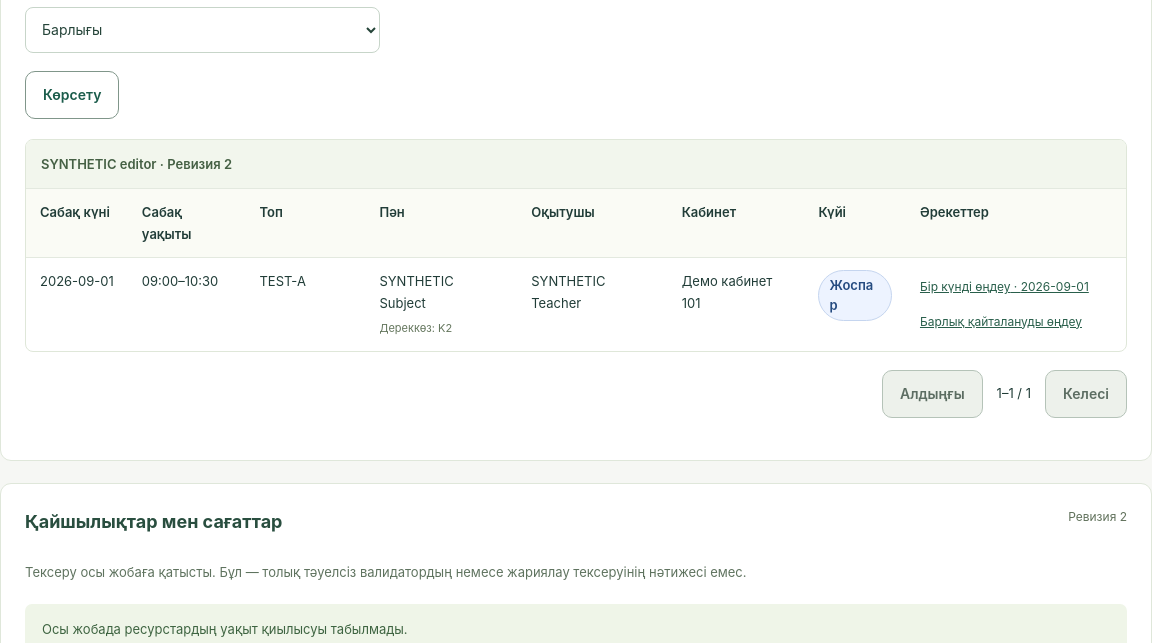
Test: manual schedule editor › single-date save sends only that occurrence through the one-date command
(page scrolled)
Click the button "Бір күнді өңдеу · 2026-09-01" at (1004, 287), box [920,270,1089,305]
(page scrolled)
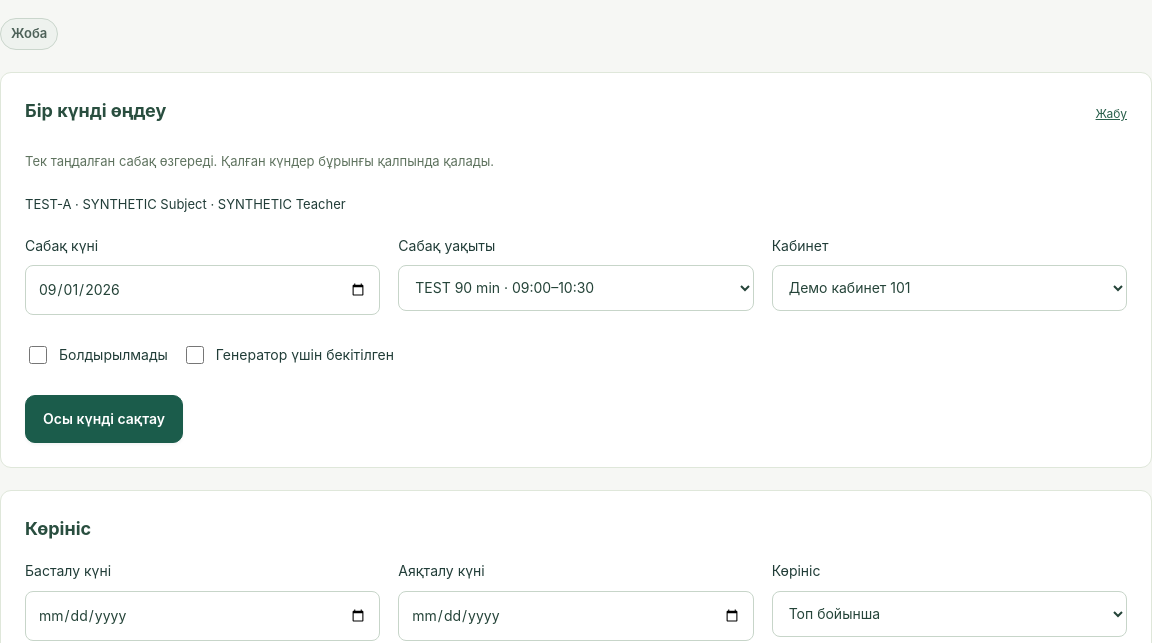
Select "2-сабақ (90 минут) · 10:30–12:00" in the dropdown labelled "Сабақ уақыты" at (576, 288), box [398,265,754,311]
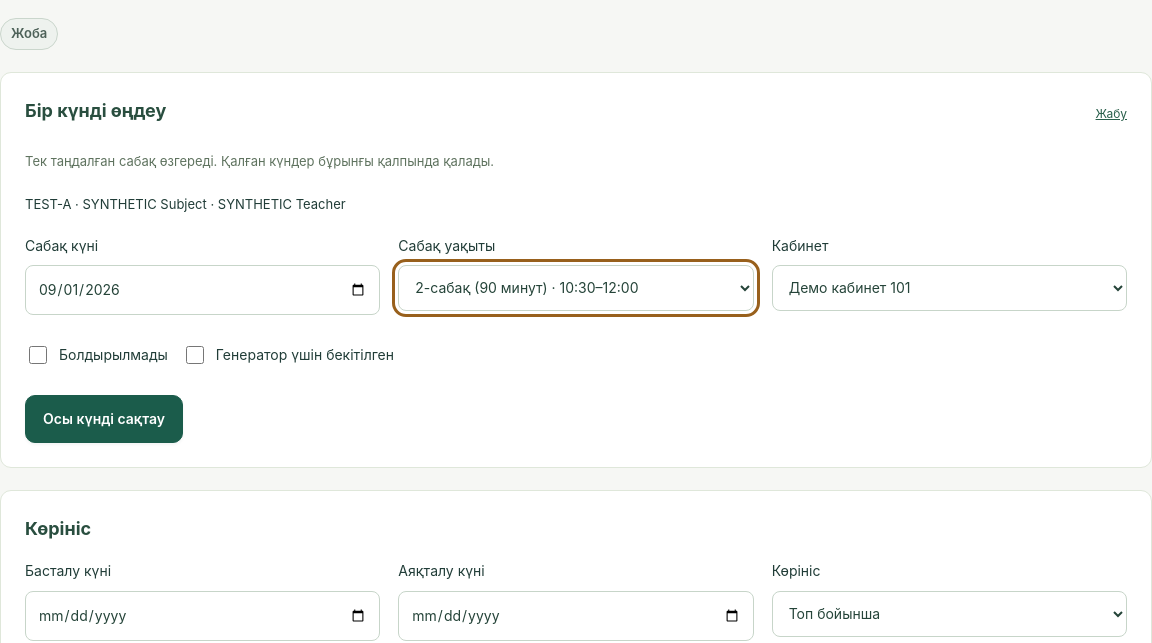
Click the button "Осы күнді сақтау" at (104, 419), box [25,395,183,443]
(page scrolled)
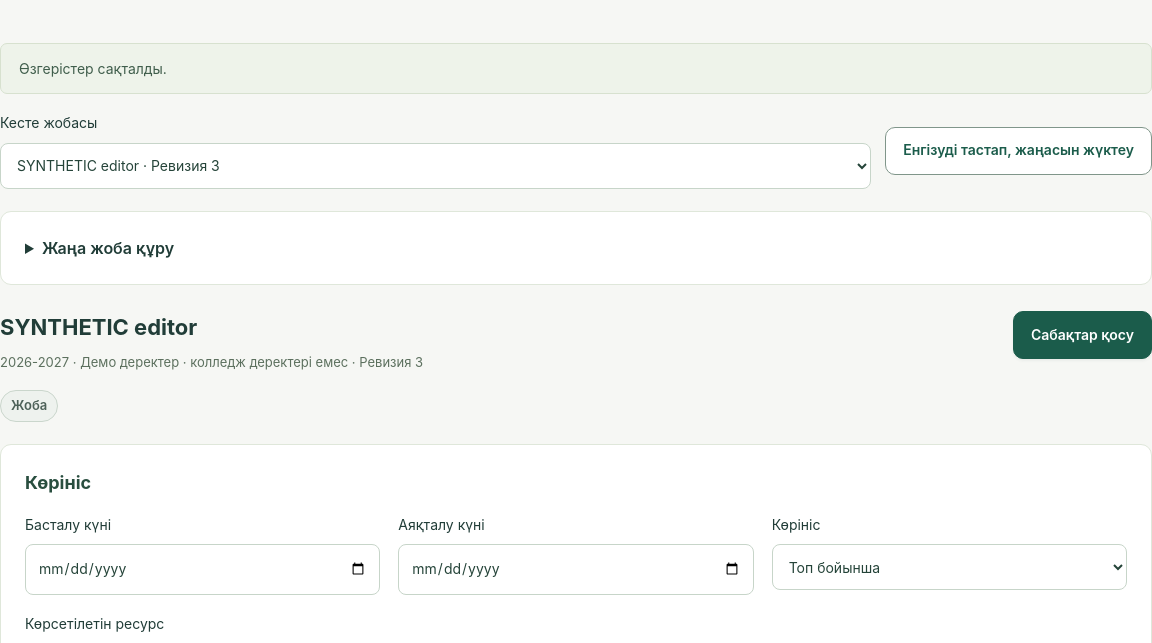
Check: the text "Өзгерістер сақталды." is shown, box [0,43,1151,94]
